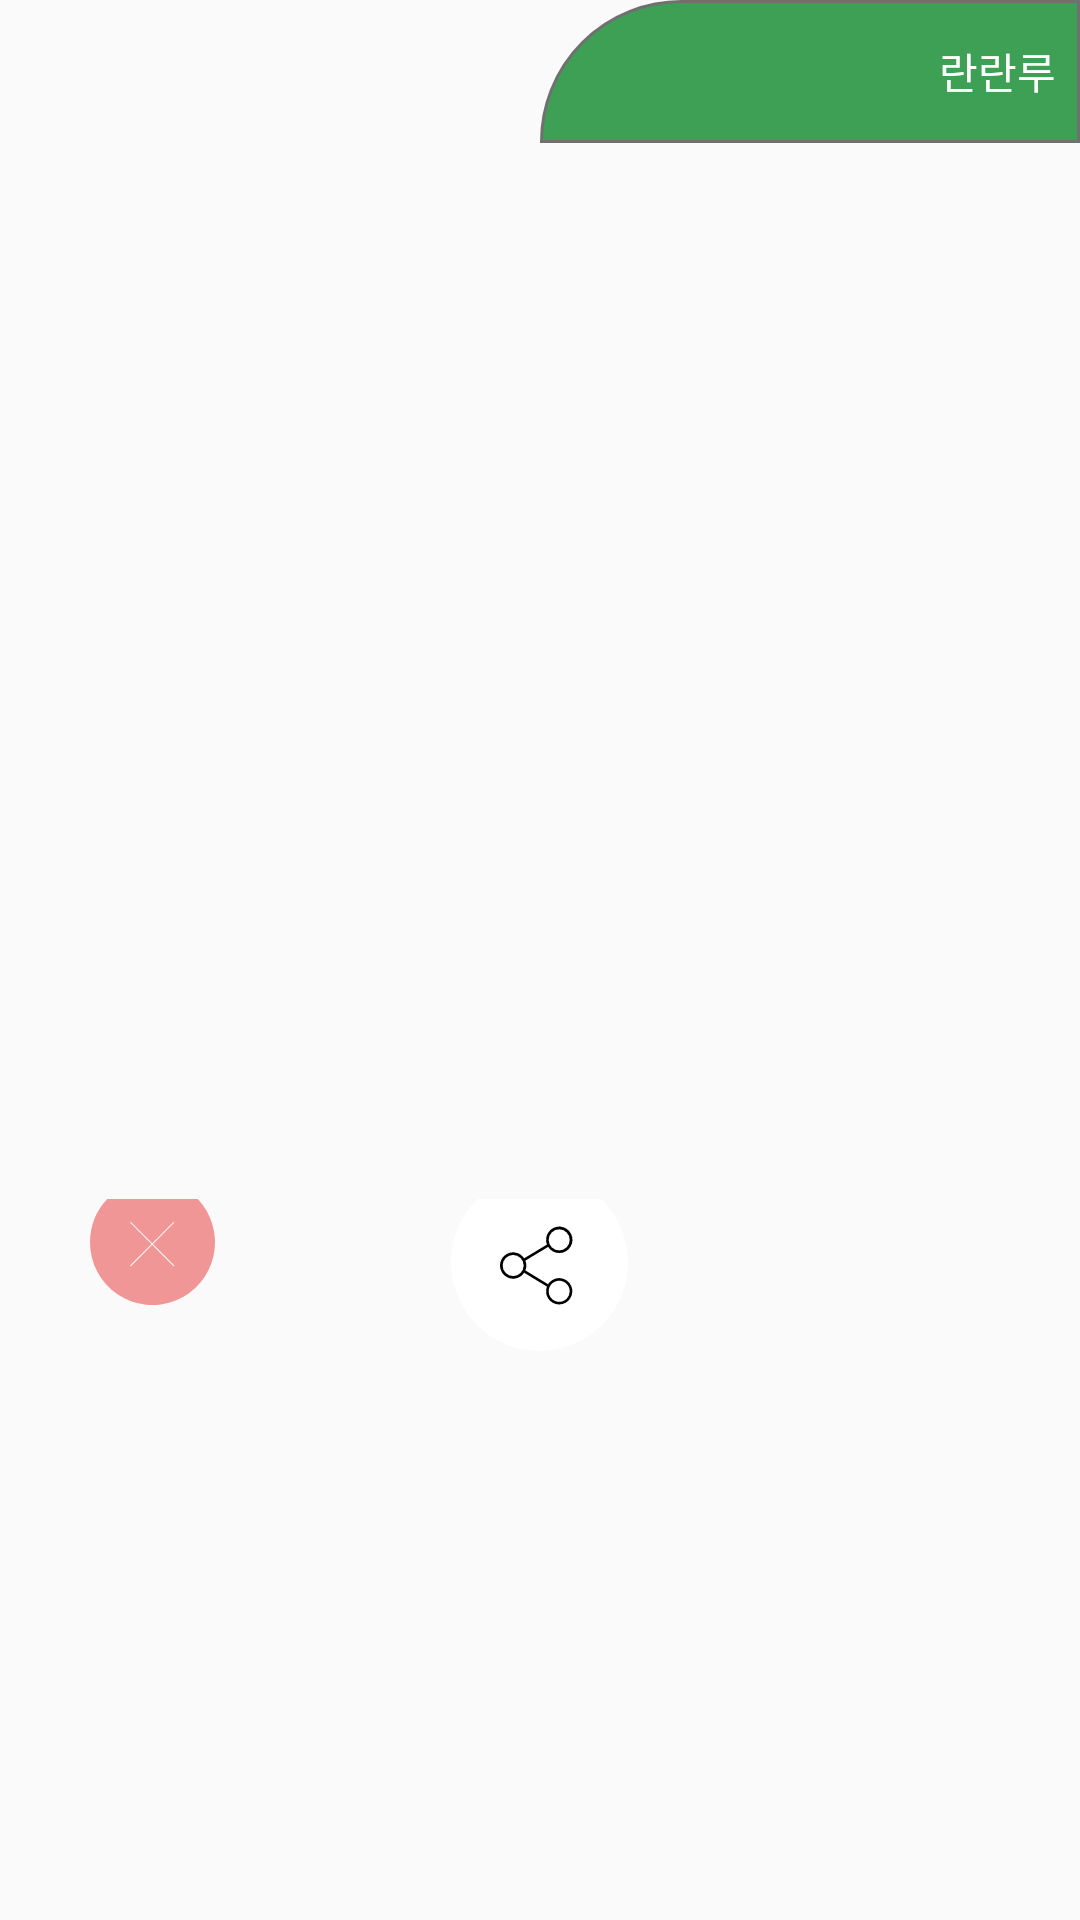

Named icons in this screenshot (1080 x 1920) and their bounding boxes, (x1, y1, x2, y2):
delete: (90, 1199, 215, 1305)
share: (500, 1226, 573, 1305)
